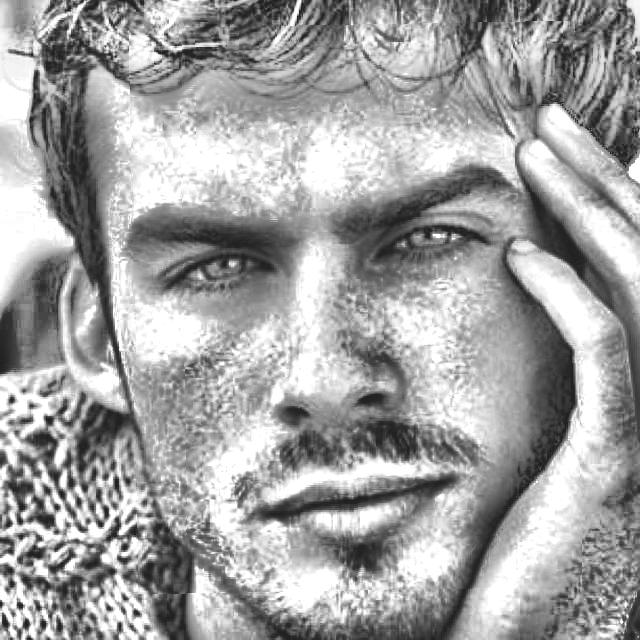sad: (132, 23, 580, 593)
